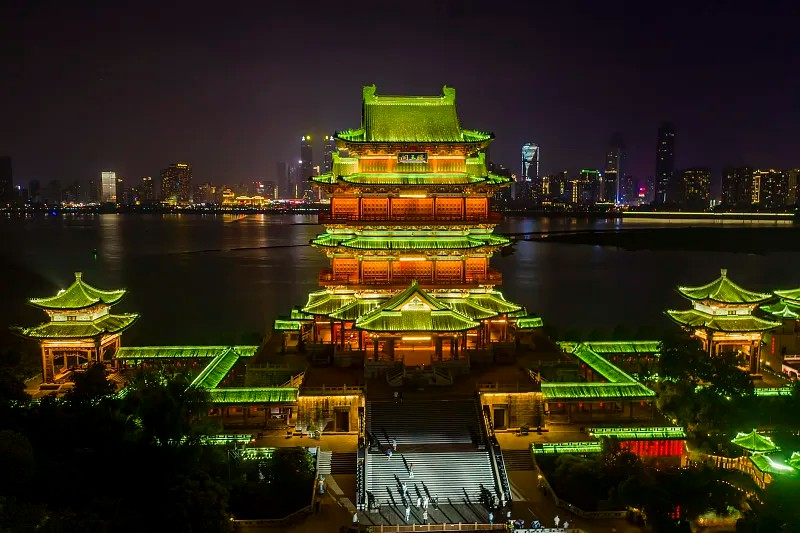Teng: (275, 84, 546, 355)
